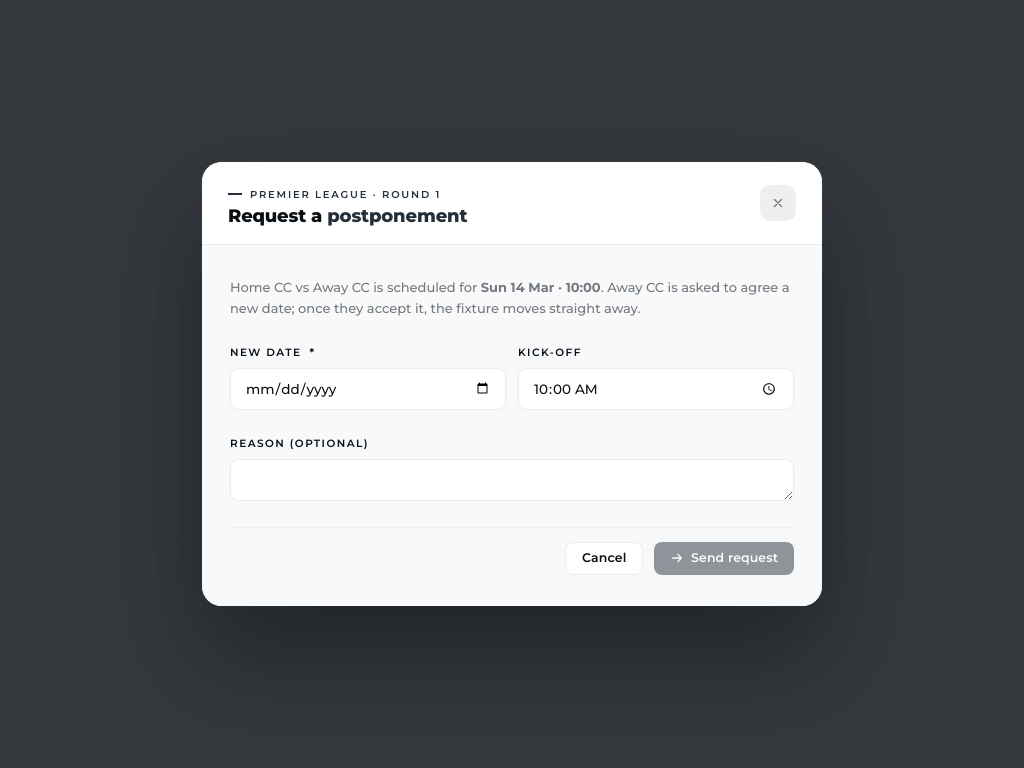
RequestPostponementModal › keeps the modal open with the server’s message on a 409
This screenshot has width=1024, height=768.
Type "2027-03-20" into the date field named "New date".
click(368, 389); type("2027-03-20")  # box 230,368 -> 506,410
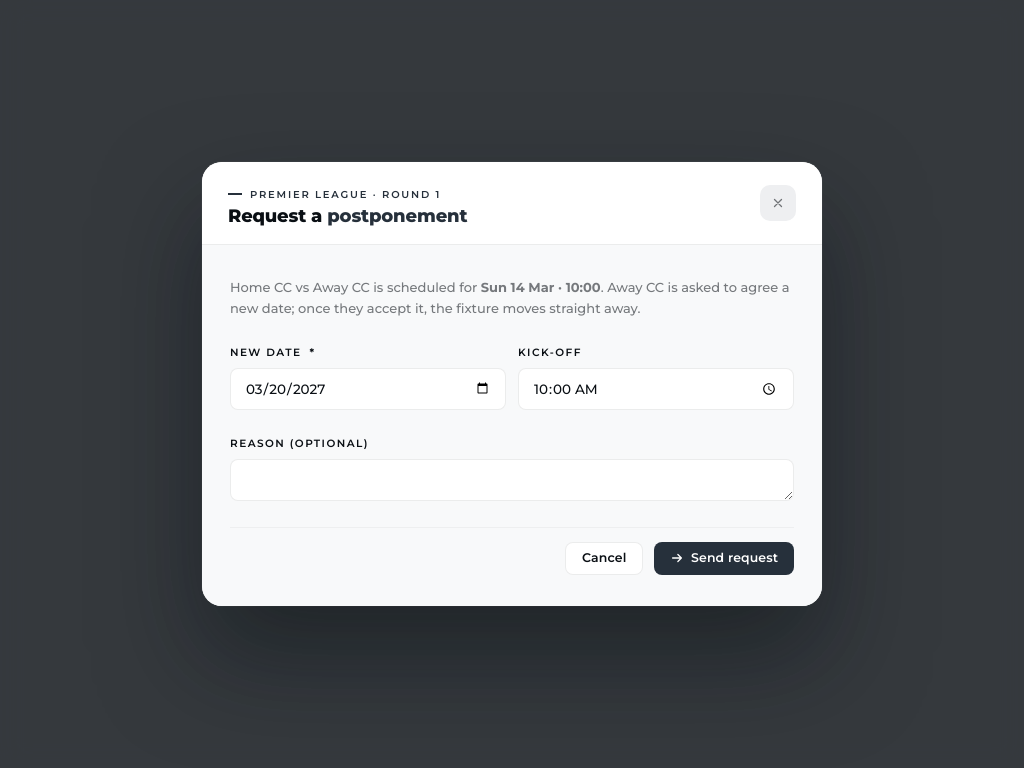
Click the button "Send request".
click(724, 558)  # box 654,542 -> 794,574
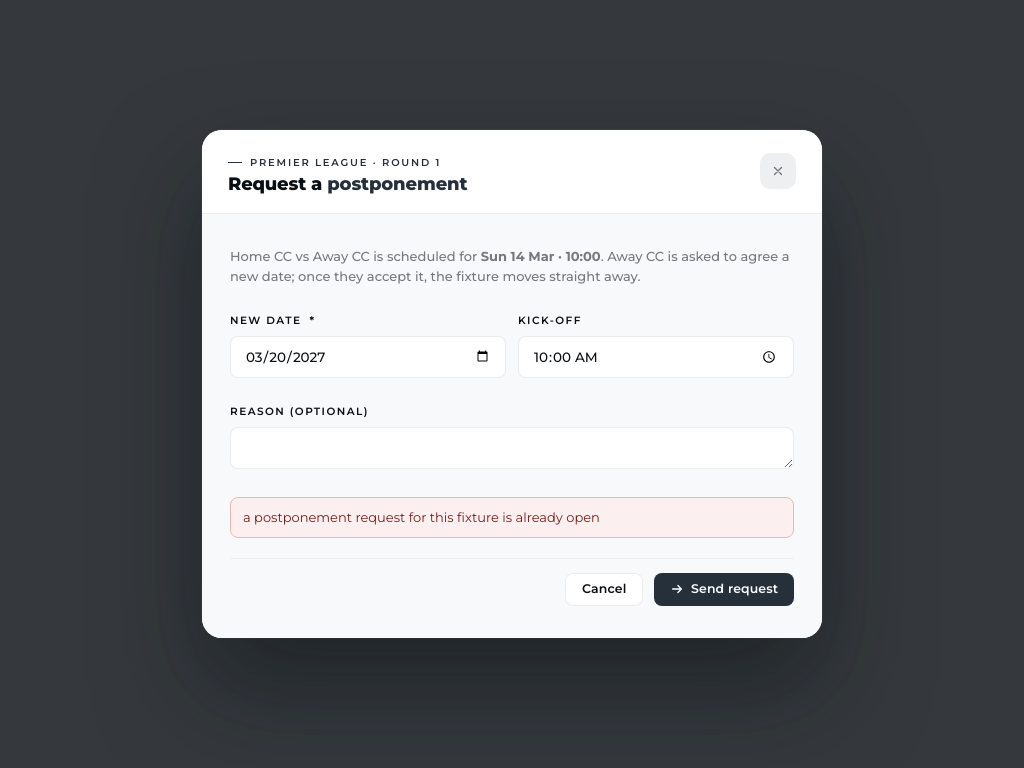
Result: the message shows "already open" at 243,509 -> 600,525
